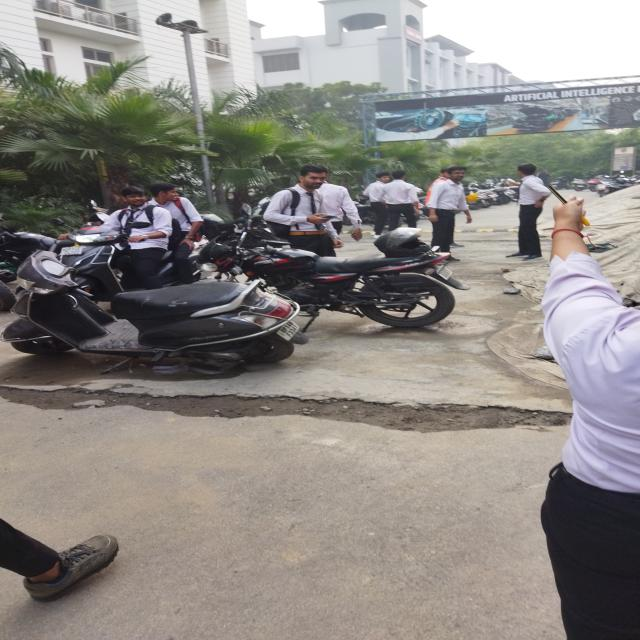unsafe: (264, 164, 344, 259), (106, 187, 164, 290), (150, 180, 200, 282), (500, 164, 550, 261), (429, 164, 471, 264), (388, 172, 420, 230), (366, 172, 390, 235)
